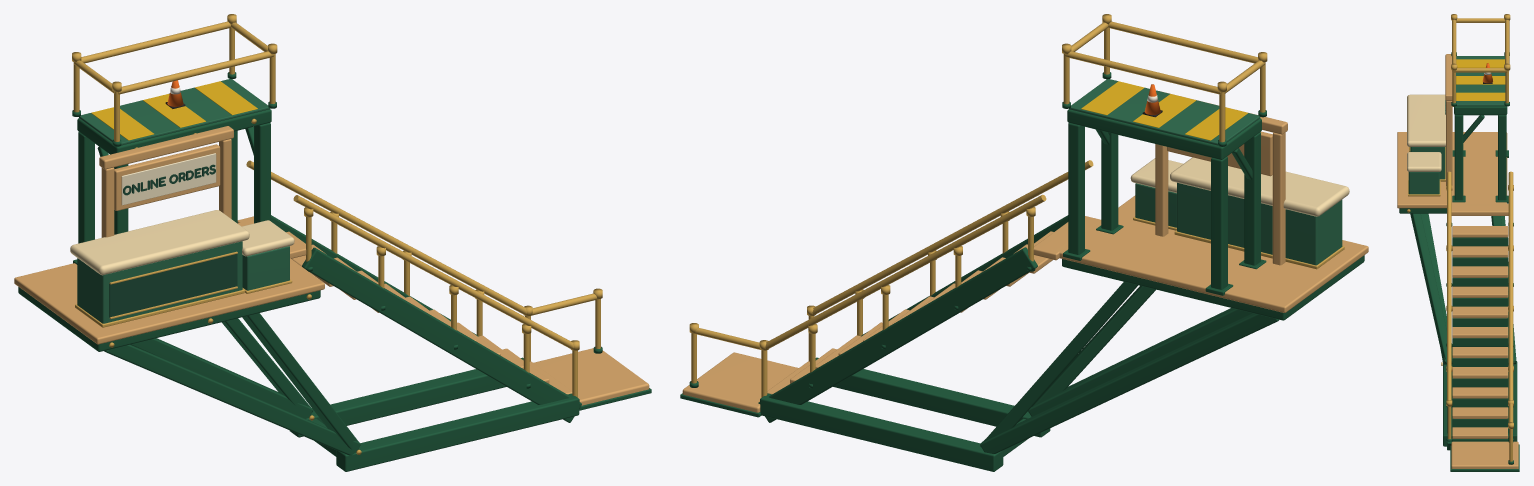
File: online_deck.glb
The picture shows the model from 3 angles, left to right: view 1: azimuth 30°, elevation 25°; view 2: azimuth 150°, elevation 25°; view 3: azimuth 270°, elevation 25°; orthographic projection. The views are drawn at different scales.
Parts seen in each view (by area): view 1: Stringer-0.03, DeckBoards, CounterTop, FloorBeam-0.03, Diag-0.03, CounterPanel, FloorBeam0.61, CounterBody, FootLanding, PadTop, Diag0.61, Diag2-0.03 (+22 smaller); view 2: DeckBoards, Stringer0.61, CounterBody, FloorBeam0.61, Diag0.61, FloorBeam-0.03, CounterTop, FootLanding, PadTop, Diag-0.03, Diag20.61, PadFrame (+20 smaller); view 3: DeckBoards, CounterTop, FootLanding, Diag2-0.03, StairRail0.61, StairRail-0.03, PadTop, PadPost0.770.07, PadPost0.770.52, SideBody, Tread4, Diag-0.03 (+42 smaller).
Part boxes in pixels (<box>): Stringer-0.03: <box>302,247,581,422</box>; DeckBoards: <box>14,222,324,344</box>; CounterTop: <box>70,210,249,275</box>; FloorBeam-0.03: <box>336,393,579,471</box>; Diag-0.03: <box>104,344,360,455</box>; CounterPanel: <box>109,254,237,317</box>; FloorBeam0.61: <box>289,357,523,437</box>; CounterBody: <box>77,241,242,323</box>; FootLanding: <box>533,348,649,405</box>; PadTop: <box>79,79,269,145</box>; Diag0.61: <box>130,338,312,418</box>; Diag2-0.03: <box>242,313,360,449</box>; DeckBoards: <box>1059,195,1368,312</box>; Stringer0.61: <box>758,247,1037,422</box>; CounterBody: <box>1177,182,1342,265</box>; FloorBeam0.61: <box>760,393,1003,471</box>; Diag0.61: <box>980,313,1279,453</box>; FloorBeam-0.03: <box>815,357,1050,437</box>; CounterTop: <box>1170,157,1349,216</box>; FootLanding: <box>682,352,798,412</box>; PadTop: <box>1069,79,1260,145</box>; Diag-0.03: <box>1028,308,1252,416</box>; Diag20.61: <box>980,282,1137,446</box>; PadFrame: <box>1067,109,1261,159</box>; DeckBoards: <box>1397,132,1507,208</box>; CounterTop: <box>1407,94,1445,146</box>; FootLanding: <box>1451,441,1518,468</box>; Diag2-0.03: <box>1410,213,1452,364</box>; StairRail0.61: <box>1508,171,1513,400</box>; StairRail-0.03: <box>1447,171,1451,400</box>; PadTop: <box>1456,56,1505,106</box>; PadPost0.770.07: <box>1454,115,1463,200</box>; PadPost0.770.52: <box>1498,115,1506,200</box>; SideBody: <box>1408,172,1439,194</box>; Tread4: <box>1452,306,1508,318</box>; Diag-0.03: <box>1421,213,1452,364</box>.
Bounding box in the file's own units: 4.67 × 3.34 × 1.27.
